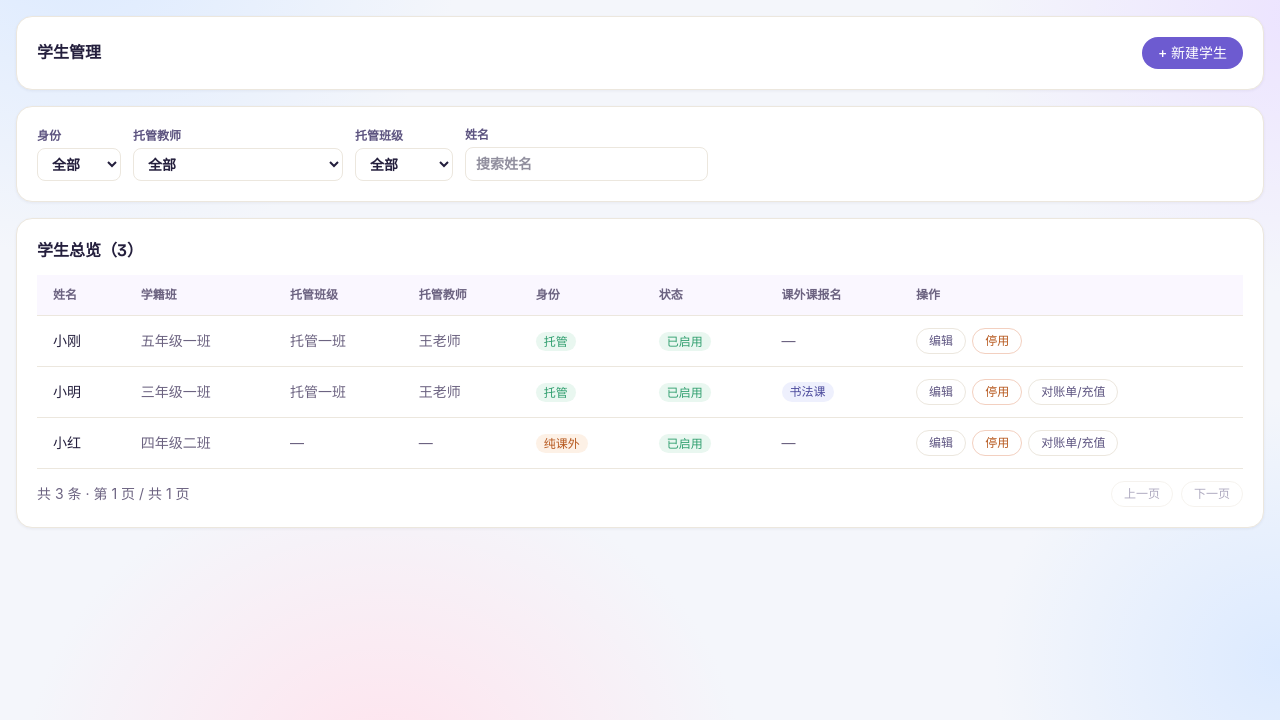
Test: AdminStudentsModule › opens the course statement modal with the correct student when clicked
This screenshot has width=1280, height=720.
Click the button "对账单/充值" in the row of "小红" at {"x": 1073, "y": 443}, box [1028,430,1118,456]
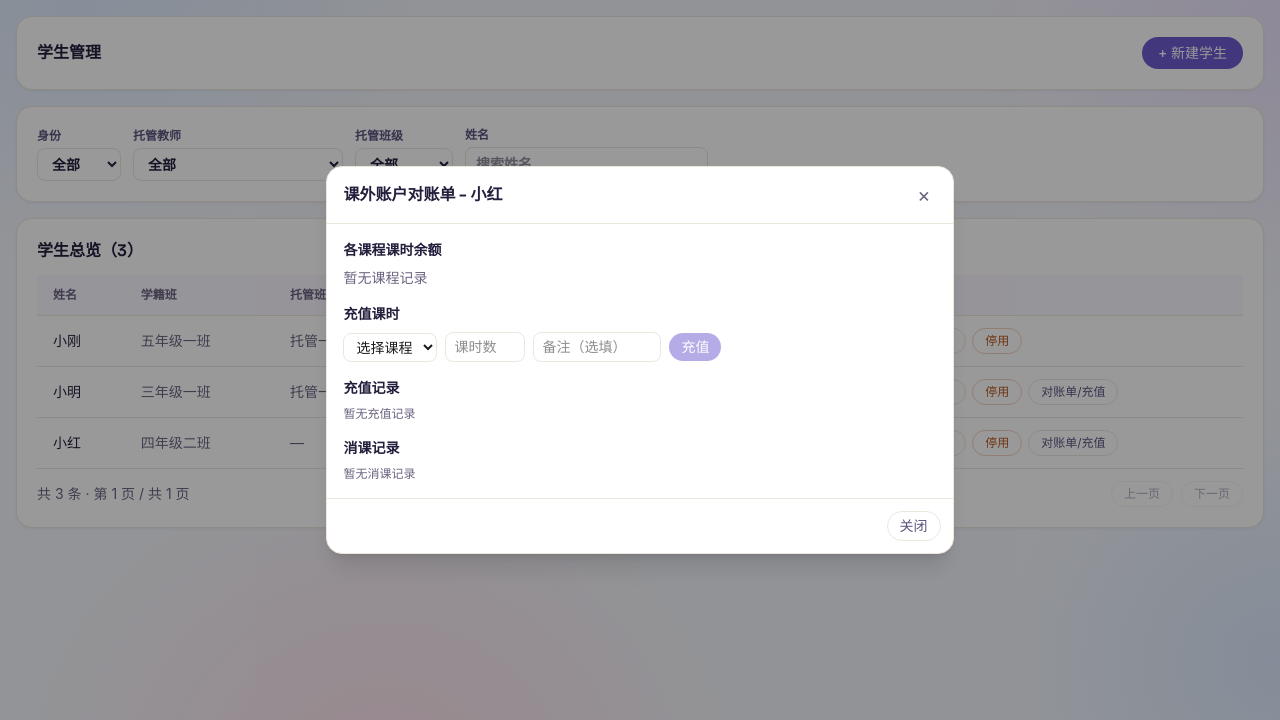
Now the heading "课外账户对账单 - 小红" is shown, box [343,183,502,207]
